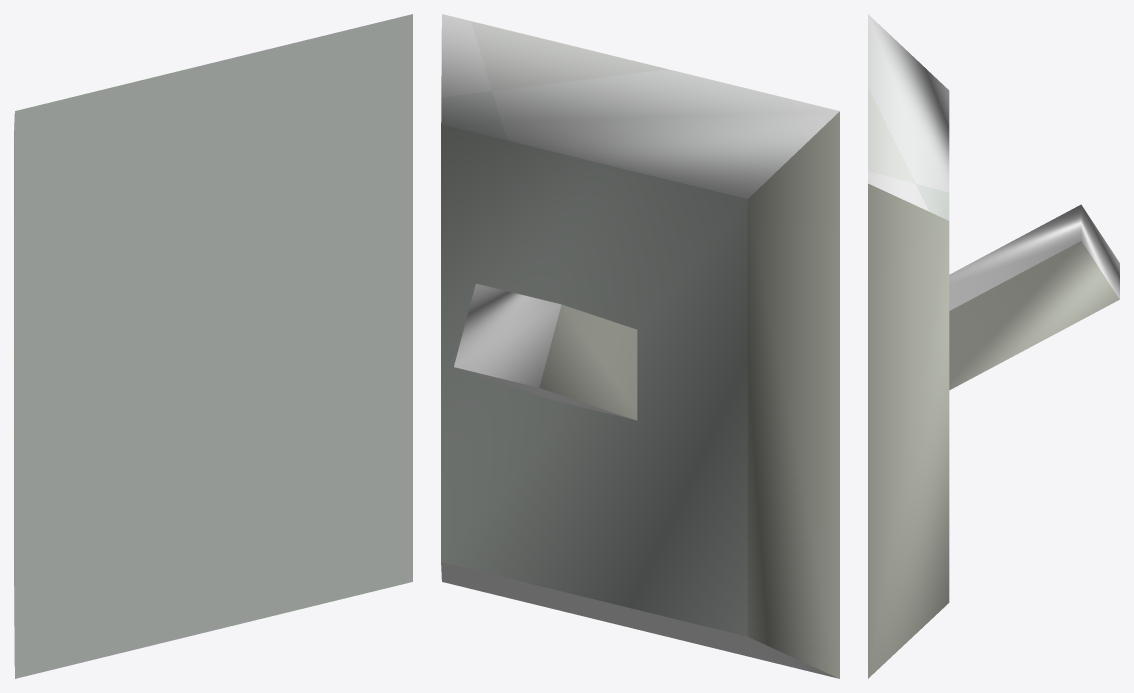
Rendered from LightSwitch.fbx.
The picture shows the model from 3 angles, left to right: view 1: azimuth 30°, elevation 25°; view 2: azimuth 150°, elevation 25°; view 3: azimuth 270°, elevation 25°; orthographic projection. The views are drawn at different scales.
Parts seen in each view (by area): view 1: JuiceBox; view 2: JuiceBox; view 3: JuiceBox.
Part boxes in pixels (left/top/right/bottom): JuiceBox: left=14, top=14, right=412, bottom=678; JuiceBox: left=441, top=14, right=839, bottom=678; JuiceBox: left=868, top=14, right=1119, bottom=678.
Size of the model in its own units: 0.0663 by 0.0904 by 0.0417.
